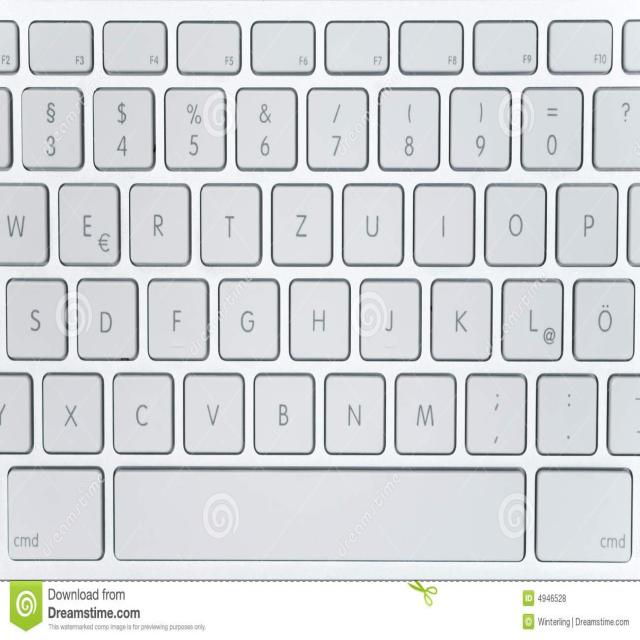0: (519, 83, 586, 170)
3: (20, 84, 87, 173)
4: (90, 84, 158, 173)
5: (161, 84, 228, 173)
6: (233, 86, 301, 175)
7: (304, 84, 371, 173)
8: (376, 84, 443, 173)
9: (446, 84, 513, 171)
b: (250, 370, 316, 455)
c: (111, 369, 177, 455)
comma: (463, 370, 528, 455)
d: (74, 276, 140, 362)
e: (56, 180, 123, 267)
f: (145, 277, 211, 362)
g: (217, 276, 283, 362)
h: (287, 277, 353, 362)
i: (411, 181, 478, 268)
j: (357, 276, 422, 361)
k: (429, 277, 494, 362)
l: (499, 276, 564, 362)
m: (393, 369, 458, 456)
n: (322, 369, 387, 456)
o: (482, 181, 549, 269)
oe: (570, 276, 635, 362)
p: (554, 181, 621, 268)
point: (534, 371, 599, 456)
r: (128, 181, 193, 268)
s: (4, 276, 70, 361)
space: (110, 463, 529, 564)
ss: (590, 84, 639, 169)
t: (198, 181, 264, 268)
u: (339, 178, 405, 267)
v: (180, 370, 246, 455)
w: (1, 178, 49, 264)
x: (40, 369, 106, 455)
z: (269, 179, 334, 267)
